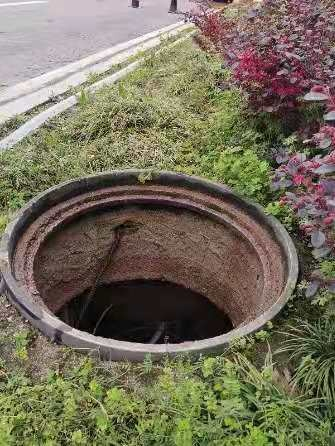well: (3, 168, 300, 353)
